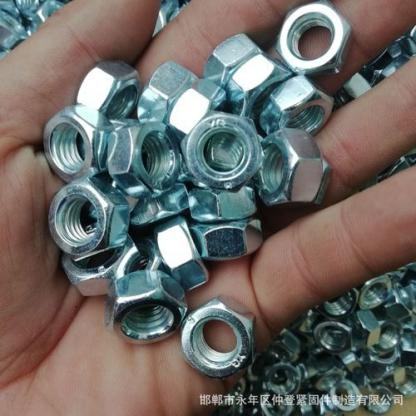FOD: (43, 178, 128, 269), (176, 295, 260, 382), (102, 270, 188, 347), (181, 117, 266, 193), (106, 120, 178, 204), (56, 229, 140, 301), (279, 0, 352, 80), (36, 105, 109, 185), (258, 126, 324, 210), (223, 53, 294, 117), (262, 80, 334, 143), (150, 219, 211, 290), (138, 58, 200, 126), (76, 57, 136, 124), (162, 78, 226, 138), (202, 26, 264, 84), (190, 216, 263, 261), (184, 184, 259, 221)
